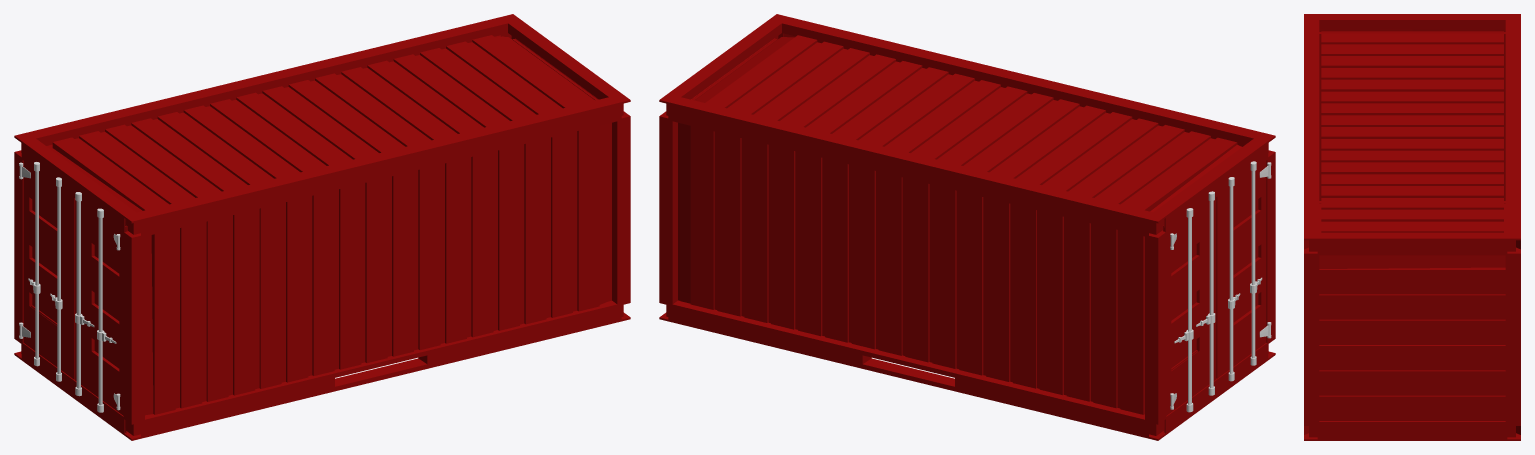
Rendered from DarkRedContainer.fbx.
3 views of the same model, side by side, from view 1: azimuth 30°, elevation 25°; view 2: azimuth 150°, elevation 25°; view 3: azimuth 270°, elevation 25° (orthographic). The views are drawn at different scales.
Visible parts, largest first — view 1: Cube.003, Cube, Cube.009, Cube.005, Cylinder.001; view 2: Cube.002, Cube, Cube.009, Cube.005, Cylinder.001; view 3: Cube.009, Cube.008, Cube, Cube.005.
Part boxes in pixels (x1,y1,x2,y2): Cube.003: (145,122,611,415); Cube: (14,14,630,440); Cube.009: (50,35,594,212); Cube.005: (23,161,127,415); Cylinder.001: (28,162,116,412); Cube.002: (678,122,1144,414); Cube: (659,14,1275,440); Cube.009: (695,35,1241,212); Cube.005: (1163,161,1266,415); Cylinder.001: (1174,161,1262,412); Cube.009: (1321,31,1503,232); Cube.008: (1318,255,1505,424); Cube: (1304,14,1520,440); Cube.005: (1319,29,1505,200).
Bounding box in the file's own units: 508 × 210 × 204.
